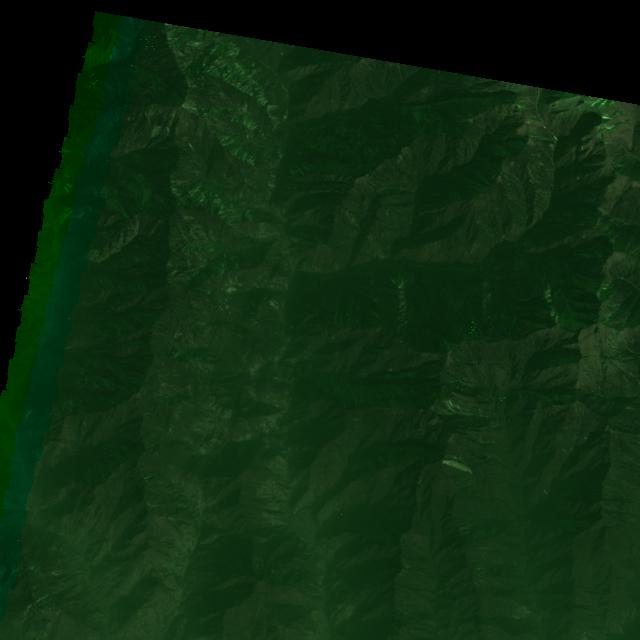landslides: (49, 318, 109, 336), (0, 196, 30, 230), (18, 148, 48, 177), (0, 229, 29, 256), (529, 124, 556, 153), (441, 458, 474, 475), (54, 296, 82, 315), (282, 566, 324, 578), (442, 397, 471, 414), (18, 603, 31, 640), (577, 235, 607, 251), (472, 552, 507, 564), (78, 248, 99, 268), (56, 209, 83, 224), (18, 201, 34, 224), (109, 28, 133, 43), (50, 268, 80, 280), (41, 178, 58, 199), (27, 219, 53, 232), (28, 214, 51, 228), (35, 590, 60, 602), (555, 300, 569, 321), (0, 190, 16, 207), (204, 178, 231, 188), (445, 396, 462, 411), (27, 207, 46, 220), (27, 201, 43, 216), (612, 357, 627, 373), (95, 374, 112, 388), (159, 381, 180, 392), (199, 183, 216, 196), (538, 144, 552, 159), (598, 168, 612, 183), (540, 389, 564, 397), (186, 383, 196, 402), (479, 439, 500, 448), (0, 520, 26, 527), (41, 10, 55, 23), (152, 331, 172, 340), (151, 124, 162, 140), (345, 209, 355, 226), (395, 62, 403, 82), (57, 219, 77, 227), (2, 470, 16, 481), (596, 165, 607, 179), (147, 107, 156, 124), (444, 453, 463, 461), (619, 329, 627, 348), (332, 302, 339, 323), (550, 300, 559, 316), (599, 357, 605, 381), (12, 526, 27, 535), (290, 335, 302, 346), (147, 502, 169, 508), (471, 100, 484, 110), (546, 289, 560, 298), (33, 37, 41, 52), (27, 232, 50, 237), (471, 319, 479, 333), (197, 194, 207, 205), (9, 389, 21, 398), (65, 182, 77, 191), (87, 307, 108, 312), (221, 138, 234, 146), (63, 185, 73, 195)
